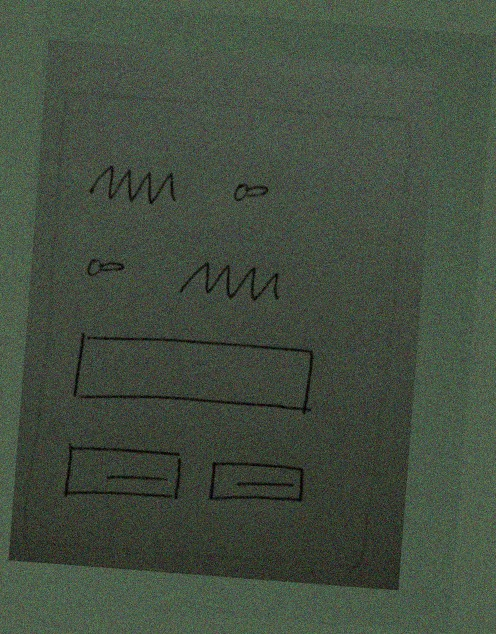button: (54, 436, 192, 509), (202, 454, 321, 514)
switch: (76, 246, 137, 290), (223, 177, 286, 212)
text: (172, 250, 303, 310), (76, 152, 190, 213)
text_input: (64, 324, 326, 422)
